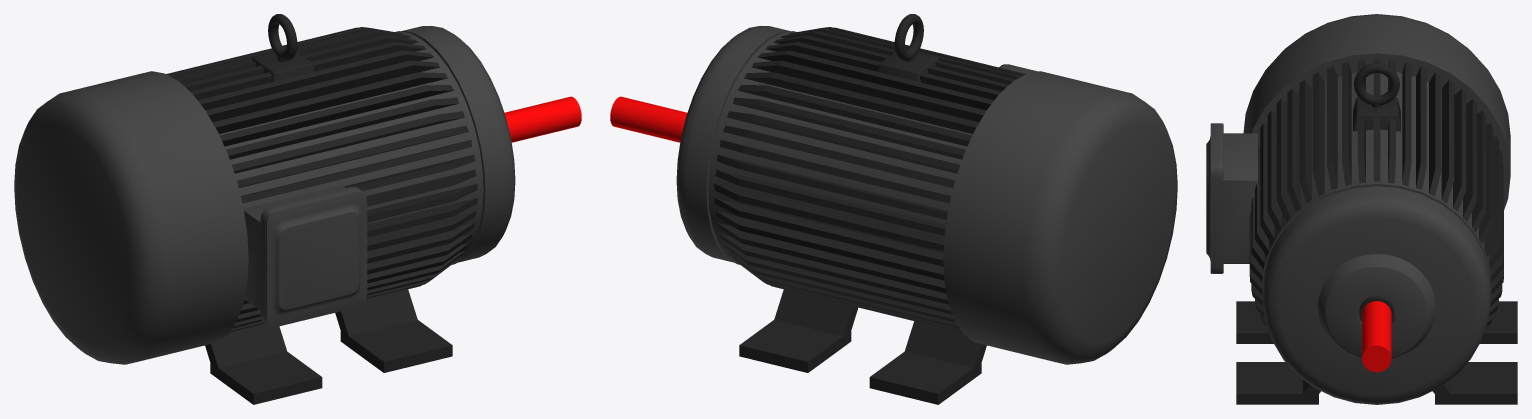
The picture shows the model from 3 angles, left to right: view 1: azimuth 30°, elevation 25°; view 2: azimuth 150°, elevation 25°; view 3: azimuth 270°, elevation 25°; orthographic projection. The views are drawn at different scales.
Parts seen in each view (by area): view 1: 2; view 2: 2; view 3: 2.
Part boxes in pixels (bbox=[...]): 2: bbox=[14, 14, 581, 404]; 2: bbox=[610, 14, 1177, 404]; 2: bbox=[1206, 14, 1517, 404].
Bounding box in the file's own units: 119 × 70.52 × 67.14.
